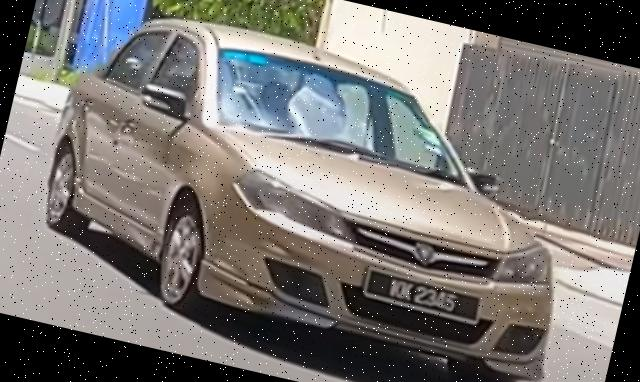License_Plate: (359, 266, 486, 327)
car: (20, 1, 606, 382)
